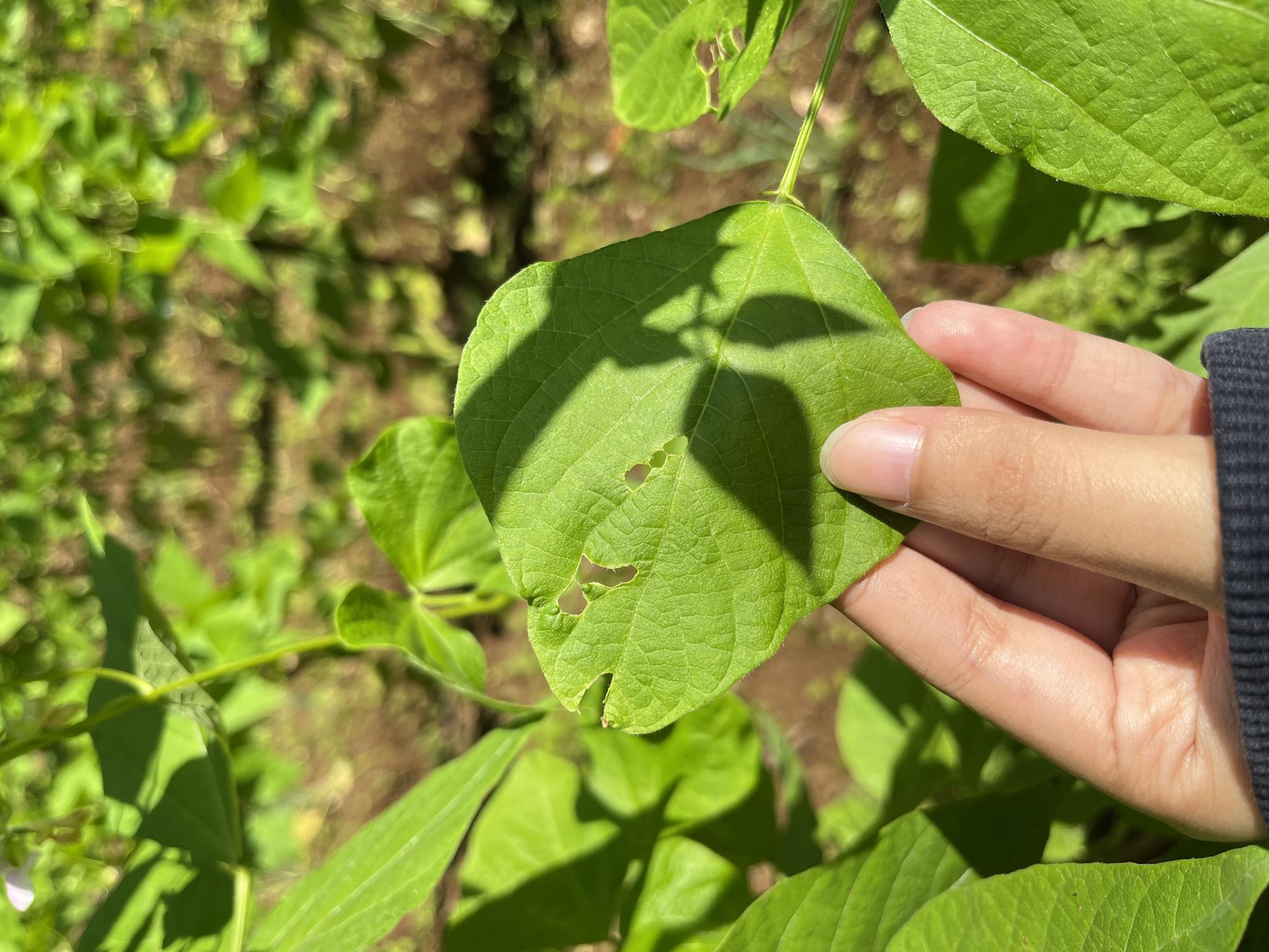mozaik: (546, 558, 671, 642), (576, 661, 617, 732)
